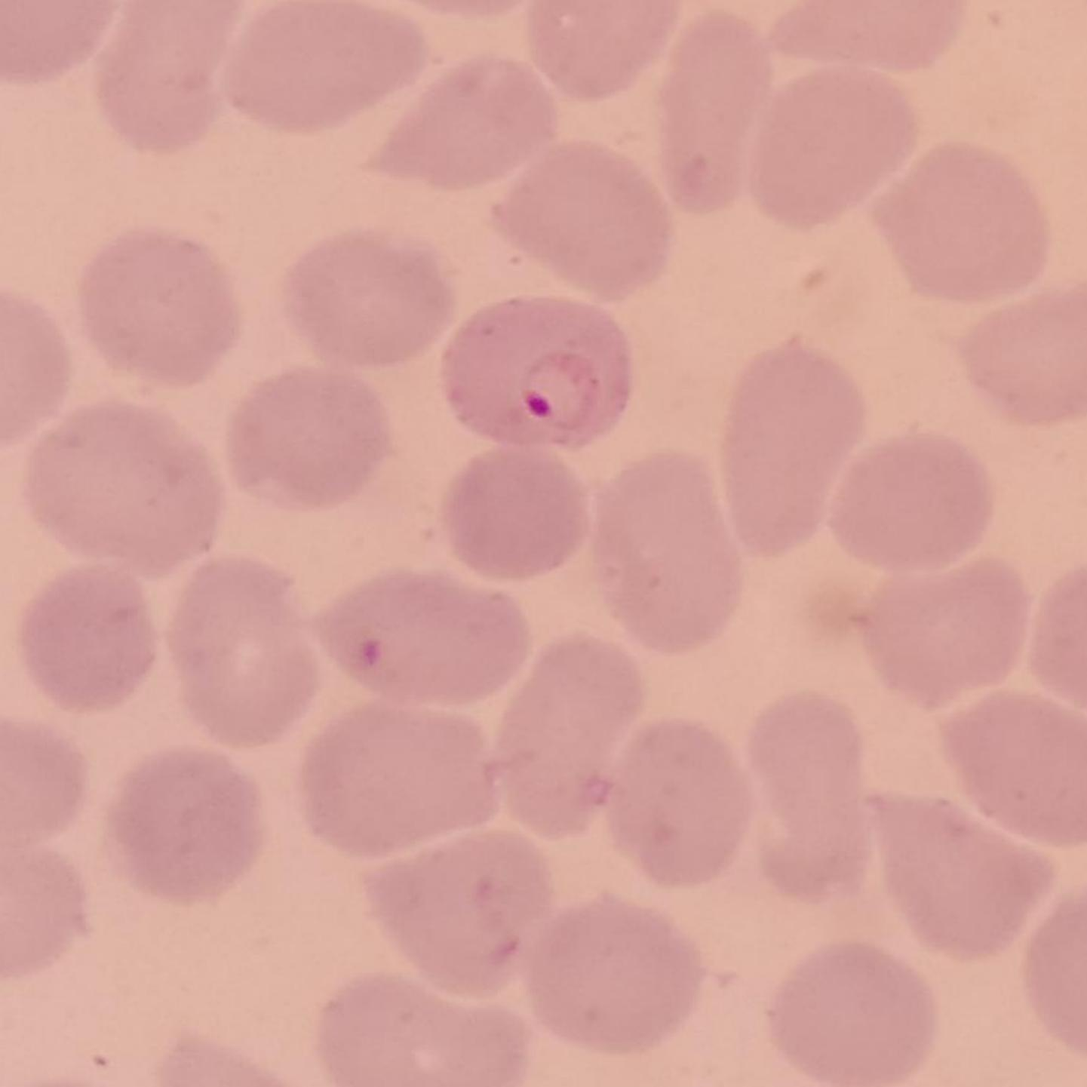Infected: (443, 293, 631, 451)
Uninfected: (29, 401, 223, 574), (489, 634, 647, 839), (724, 343, 865, 565), (591, 453, 748, 652), (302, 702, 502, 858), (361, 832, 550, 996), (320, 570, 532, 713), (166, 555, 322, 745), (873, 794, 1049, 954), (495, 143, 674, 300), (523, 896, 700, 1054), (877, 143, 1044, 301), (749, 68, 916, 226), (603, 714, 753, 889), (227, 2, 428, 131), (79, 229, 244, 385), (745, 691, 874, 889), (856, 560, 1023, 710), (372, 57, 558, 191), (656, 14, 775, 218), (229, 367, 395, 511), (284, 231, 458, 368), (109, 750, 263, 903), (769, 944, 935, 1082), (834, 433, 992, 573), (22, 567, 158, 717), (946, 695, 1079, 846), (442, 446, 588, 581), (963, 283, 1083, 428)
